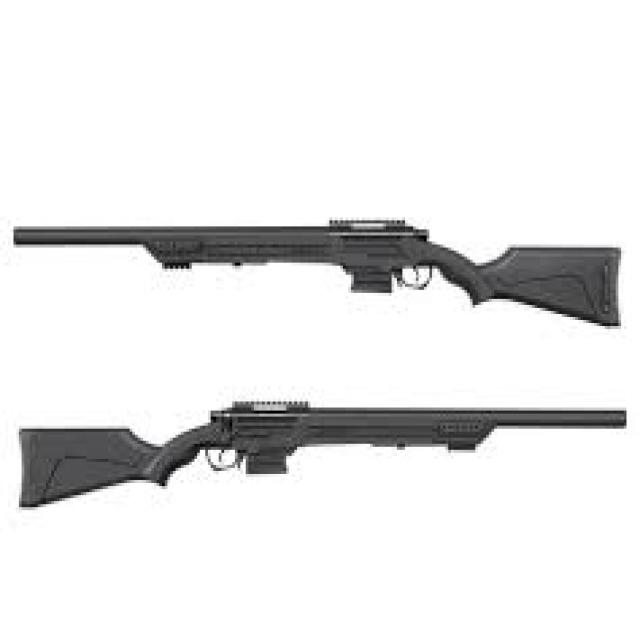long weapon: (9, 384, 636, 537), (6, 203, 627, 352)
